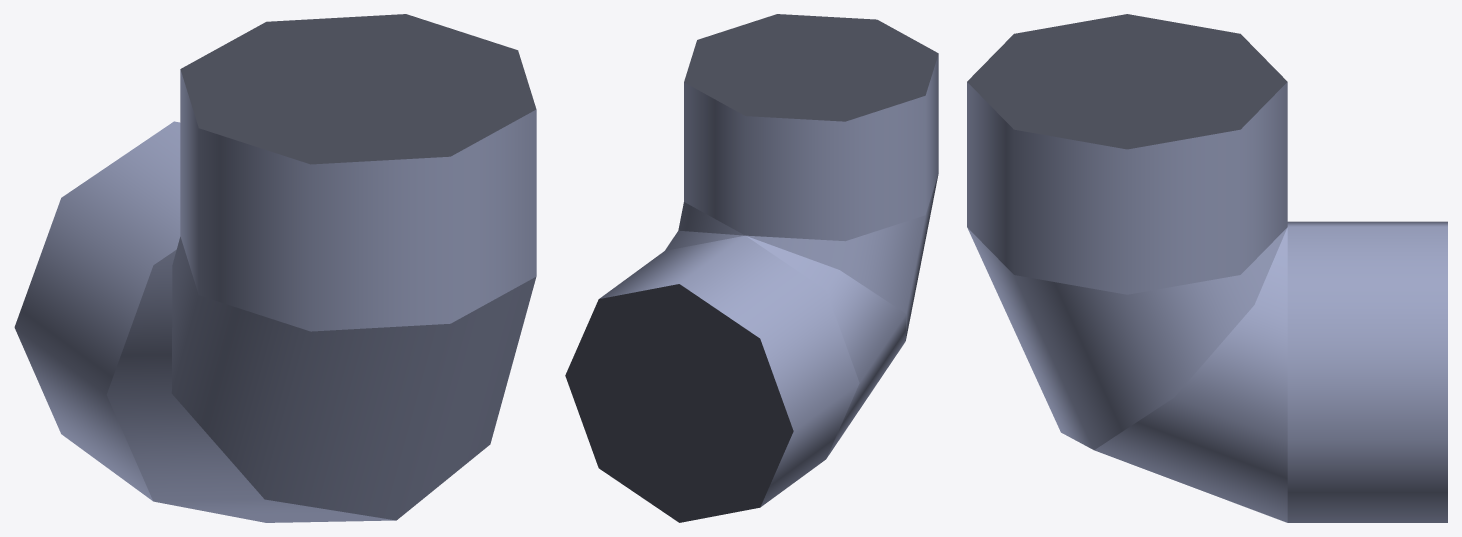
The model's file is gutter-vertical-bottom.glb.
3 renders of one model, left to right at view 1: azimuth 30°, elevation 25°; view 2: azimuth 150°, elevation 25°; view 3: azimuth 270°, elevation 25°, orthographic. The views are drawn at different scales.
Parts seen in each view (by area): view 1: gutter-vertical-bottom; view 2: gutter-vertical-bottom; view 3: gutter-vertical-bottom.
Boxes of the visible parts, <box> form: gutter-vertical-bottom: <box>14,14,536,522</box>; gutter-vertical-bottom: <box>565,14,938,522</box>; gutter-vertical-bottom: <box>967,14,1447,522</box>.
Bounding box in the file's own units: 0.2 × 0.3 × 0.3.
Materials: 1 (1 with a texture image).
